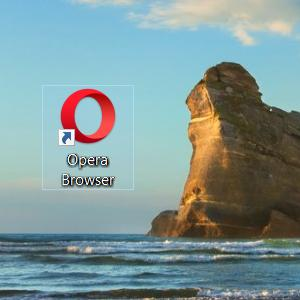opera: (58, 88, 116, 147)
